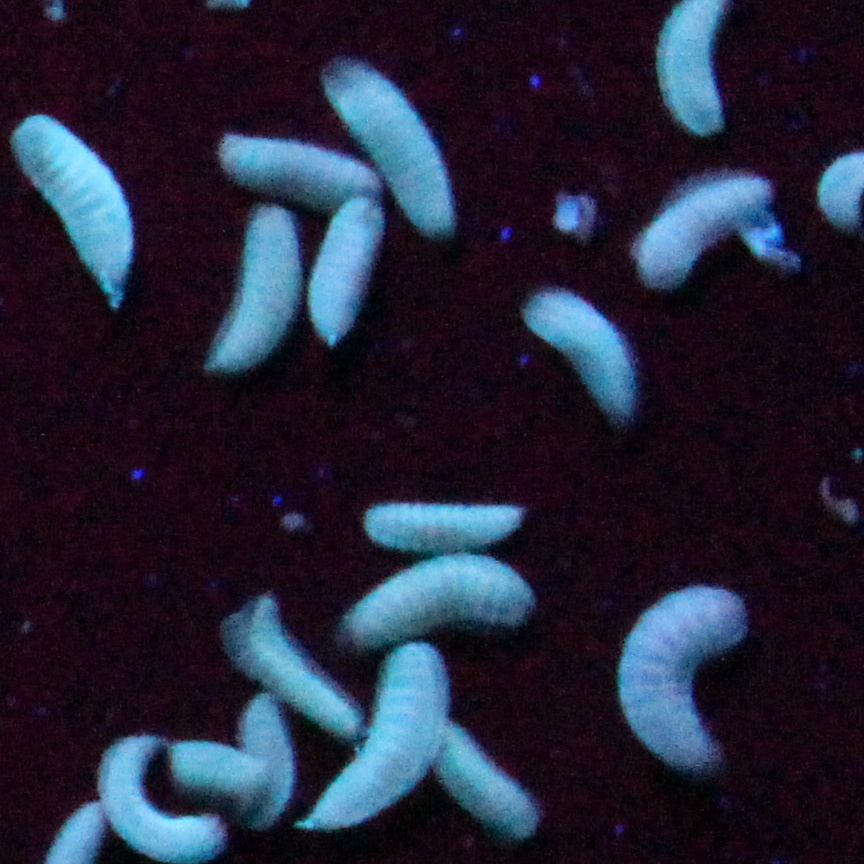larve: (8, 104, 142, 304), (331, 61, 467, 245), (628, 577, 748, 784), (235, 610, 368, 744), (208, 210, 302, 364), (215, 129, 386, 210), (522, 290, 628, 417), (302, 710, 408, 837), (348, 570, 535, 637), (647, 181, 767, 281), (428, 730, 535, 837), (362, 504, 542, 550)
